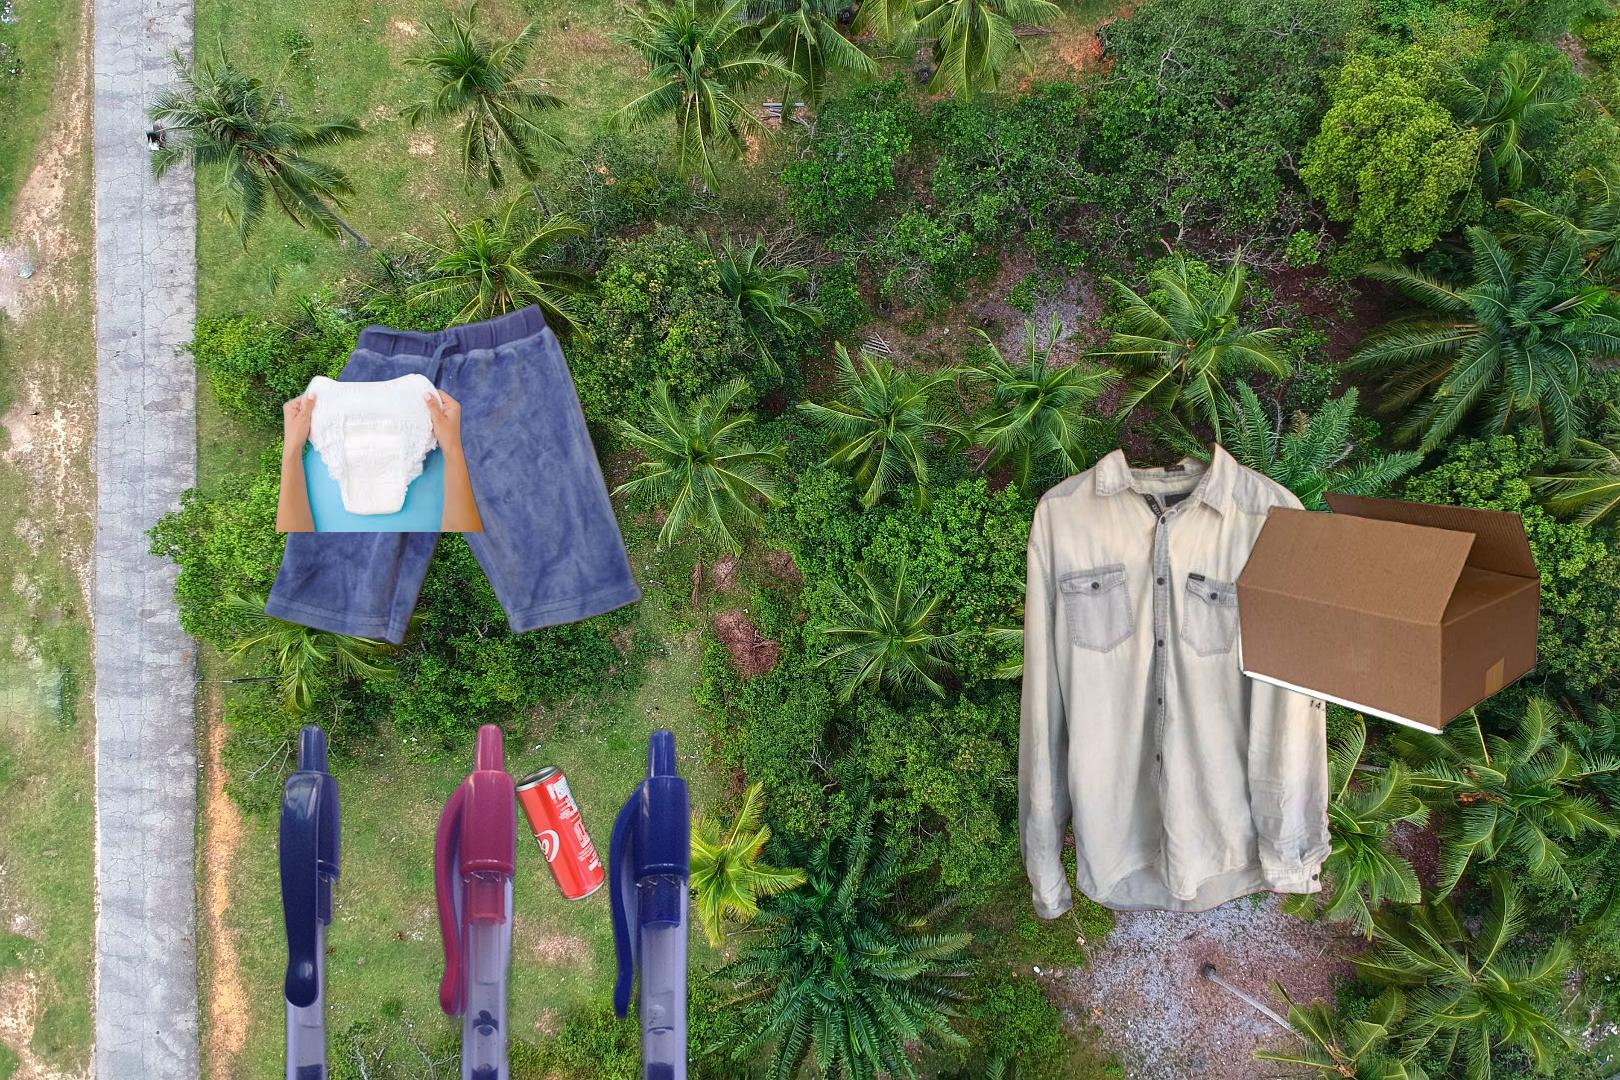battery: (1587, 180, 1620, 303)
clothes: (1014, 406, 1336, 925), (260, 299, 648, 651)
metal-cans: (511, 759, 611, 906)
penholder: (270, 717, 702, 1080)
trash: (272, 370, 507, 532)
trashbox-cardboard: (1229, 491, 1543, 736)
